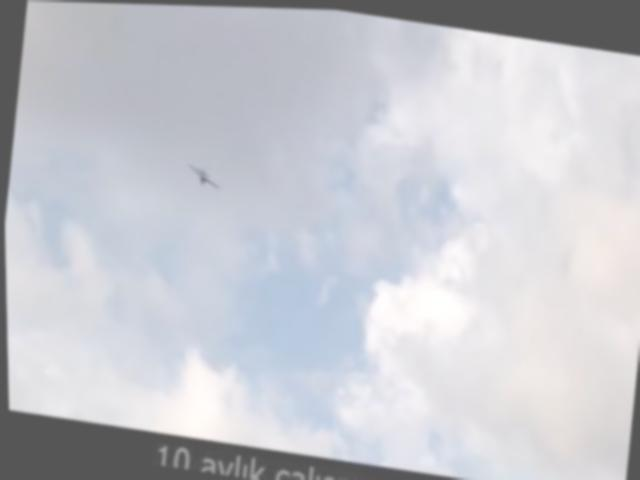uav: (178, 154, 229, 200)
